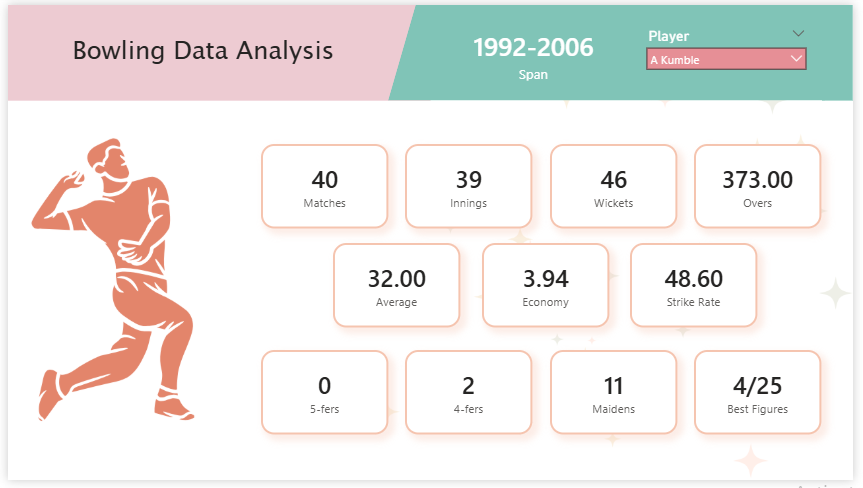

Layout of this report page (visuals, bound fields, positions):
{"tool":"powerbi","page":{"name":"Bowling","canvas":[1280,720],"ordinal":1},"visuals":[{"type":"shape","box":[0,0,639.7,144.8],"z":0},{"type":"shape","box":[575.9,0,703.4,144.8],"z":1000},{"type":"shape","box":[1232.8,0,46.6,144.8],"z":2000},{"type":"cardVisual","fields":{"Data":["Sum(Bowling stats.Mat)"]},"box":[382.8,210.3,193.1,127.6],"z":3000},{"type":"slicer","fields":{"Values":["Bowling stats.Player"]},"box":[956.9,29.3,262.1,101.7],"z":4000},{"type":"cardVisual","fields":{"Data":["Min(Bowling stats.Span)"]},"box":[665.5,19,262.1,112.1],"z":5000},{"type":"textbox","box":[93.1,36.2,412.1,86.2],"z":6000},{"type":"cardVisual","fields":{"Data":["Sum(Bowling stats.Inns)"]},"box":[601.7,210.3,193.1,127.6],"z":7000},{"type":"cardVisual","fields":{"Data":["Sum(Bowling stats.Wkts)"]},"box":[820.7,210.3,193.1,127.6],"z":8000},{"type":"cardVisual","fields":{"Data":["Sum(Bowling stats.Overs)"]},"box":[1039.7,210.3,193.1,127.6],"z":9000},{"type":"cardVisual","fields":{"Data":["Sum(Bowling stats.Ave)"]},"box":[493.1,360.3,193.1,127.6],"z":10000},{"type":"cardVisual","fields":{"Data":["Sum(Bowling stats.Econ)"]},"box":[718.1,360.3,193.1,127.6],"z":11000},{"type":"cardVisual","fields":{"Data":["Sum(Bowling stats.SR)"]},"box":[943.1,360.3,193.1,127.6],"z":12000},{"type":"cardVisual","fields":{"Data":["Sum(Bowling stats.5)"]},"box":[382.8,522.4,193.1,127.6],"z":13000},{"type":"cardVisual","fields":{"Data":["Min(Bowling stats.BBI)"]},"box":[1039.7,522.4,193.1,127.6],"z":14000},{"type":"cardVisual","fields":{"Data":["Sum(Bowling stats.Mdns)"]},"box":[820.7,522.4,193.1,127.6],"z":15000},{"type":"cardVisual","fields":{"Data":["Sum(Bowling stats.4)"]},"box":[601.7,522.4,193.1,127.6],"z":16000}]}

Visuals, with their boxes in screenshot pixels (x1, y1, x2, y2), scaled from the page's 1280x720 canvas onto the 863x488 screenshot:
shape: box=[0, 0, 431, 98]
shape: box=[388, 0, 862, 98]
shape: box=[831, 0, 862, 98]
cardVisual - Sum(Bowling stats.Mat): box=[258, 143, 388, 229]
slicer - Bowling stats.Player: box=[645, 20, 822, 89]
cardVisual - Min(Bowling stats.Span): box=[449, 13, 625, 89]
textbox: box=[63, 25, 341, 83]
cardVisual - Sum(Bowling stats.Inns): box=[406, 143, 536, 229]
cardVisual - Sum(Bowling stats.Wkts): box=[553, 143, 684, 229]
cardVisual - Sum(Bowling stats.Overs): box=[701, 143, 831, 229]
cardVisual - Sum(Bowling stats.Ave): box=[332, 244, 463, 331]
cardVisual - Sum(Bowling stats.Econ): box=[484, 244, 614, 331]
cardVisual - Sum(Bowling stats.SR): box=[636, 244, 766, 331]
cardVisual - Sum(Bowling stats.5): box=[258, 354, 388, 441]
cardVisual - Min(Bowling stats.BBI): box=[701, 354, 831, 441]
cardVisual - Sum(Bowling stats.Mdns): box=[553, 354, 684, 441]
cardVisual - Sum(Bowling stats.4): box=[406, 354, 536, 441]
